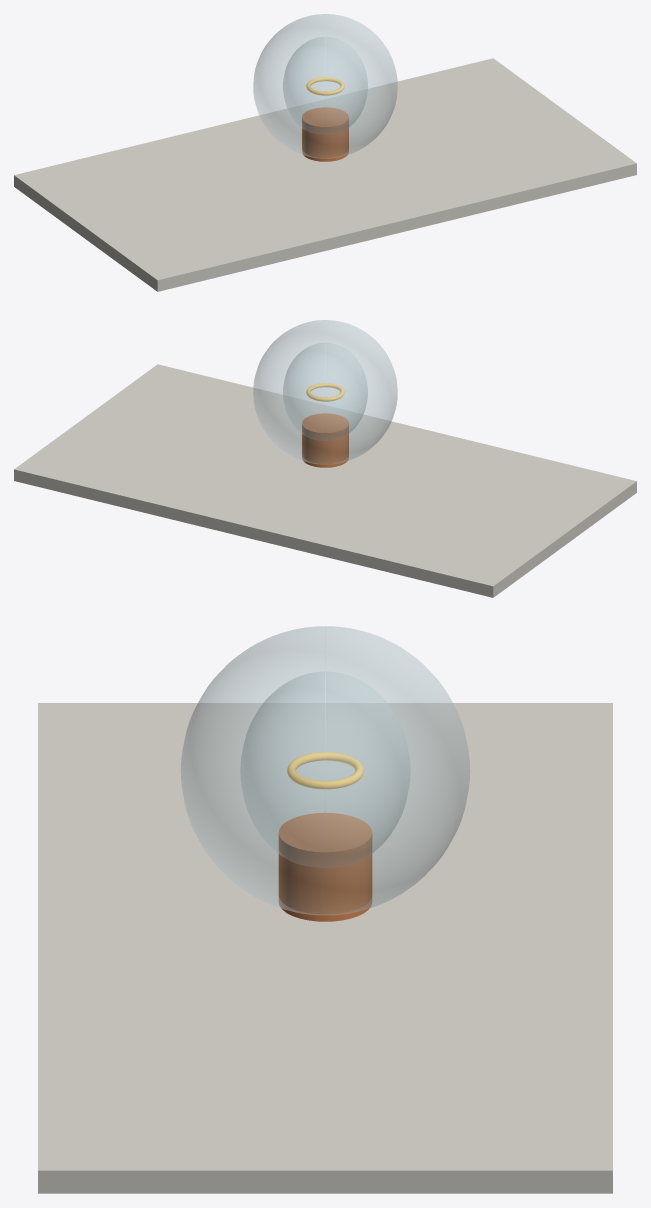
The model's file is physics-electricity-bulb.glb.
The picture shows the model from 3 angles, top to bottom: view 1: azimuth 30°, elevation 25°; view 2: azimuth 150°, elevation 25°; view 3: azimuth 270°, elevation 25°; orthographic projection. The views are drawn at different scales.
Visible parts, largest first — view 1: circuit-base, light-glow-shell, glass-bulb, bulb-base; view 2: circuit-base, light-glow-shell, glass-bulb, bulb-base; view 3: circuit-base, light-glow-shell, glass-bulb, bulb-base, glowing-filament.
Part boxes in pixels (bbox=[...]): circuit-base: bbox=[14, 58, 636, 291]; light-glow-shell: bbox=[253, 14, 397, 158]; glass-bulb: bbox=[283, 37, 367, 134]; bulb-base: bbox=[302, 107, 348, 161]; circuit-base: bbox=[14, 364, 636, 597]; light-glow-shell: bbox=[253, 320, 397, 464]; glass-bulb: bbox=[283, 343, 367, 440]; bulb-base: bbox=[302, 413, 348, 467]; circuit-base: bbox=[38, 703, 612, 1193]; light-glow-shell: bbox=[180, 626, 470, 915]; glass-bulb: bbox=[240, 672, 410, 867]; bulb-base: bbox=[278, 813, 372, 921]; glowing-filament: bbox=[287, 752, 363, 789].
Size of what is drawn, in the model's own units: 2.6 by 0.83 by 1.35.
